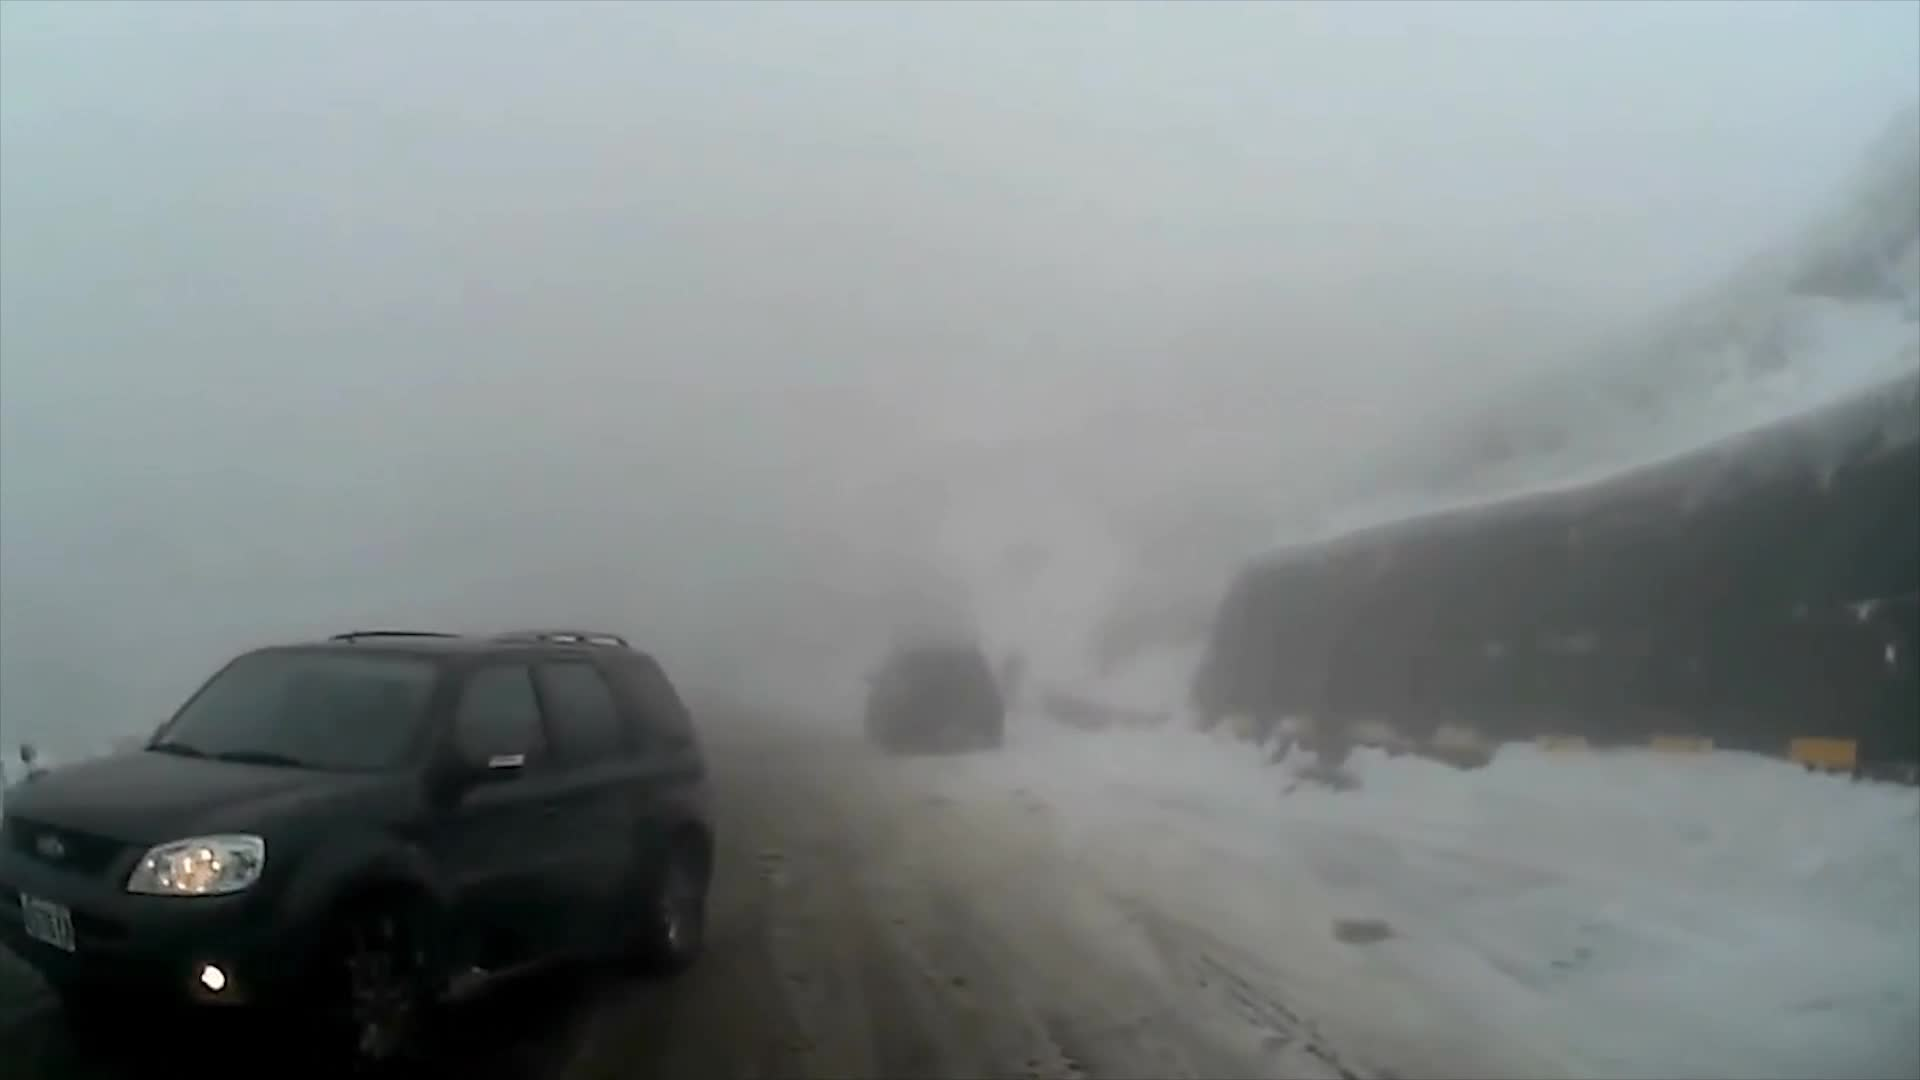vehicle: (0, 624, 713, 1069), (858, 636, 1002, 757)
